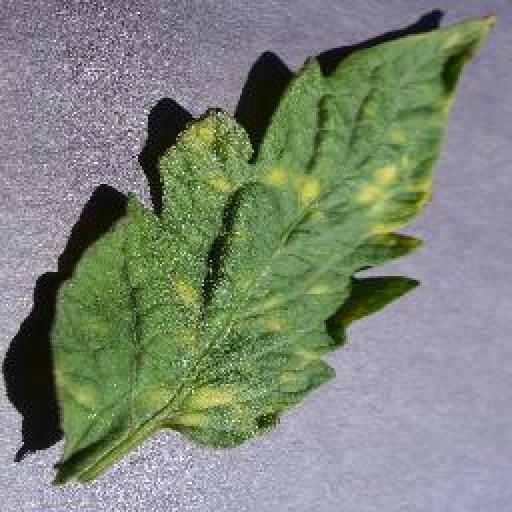disease_tomato: (49, 18, 496, 450)
